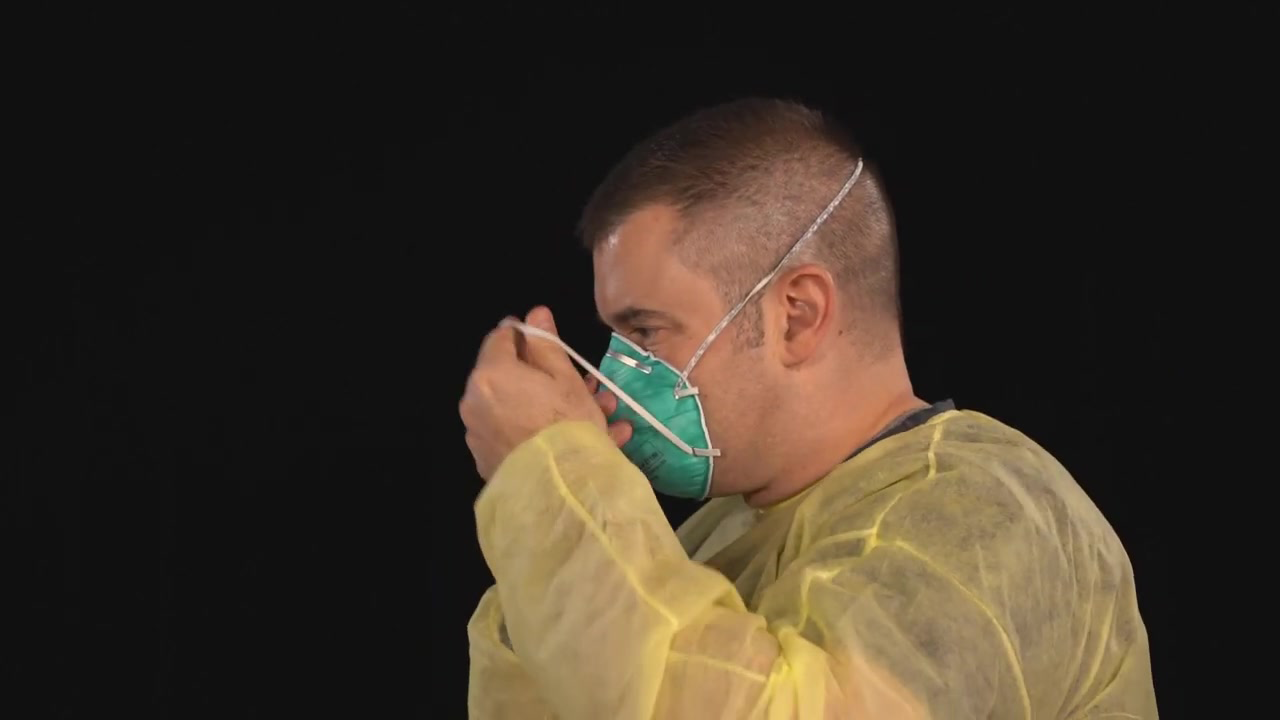Coverall: (515, 407, 1163, 720)
with_mask: (581, 299, 732, 518)
